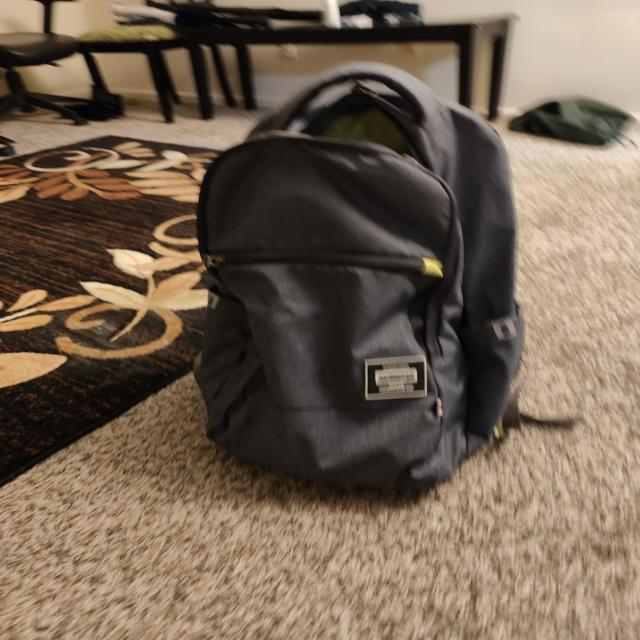bag: (164, 66, 610, 513)
